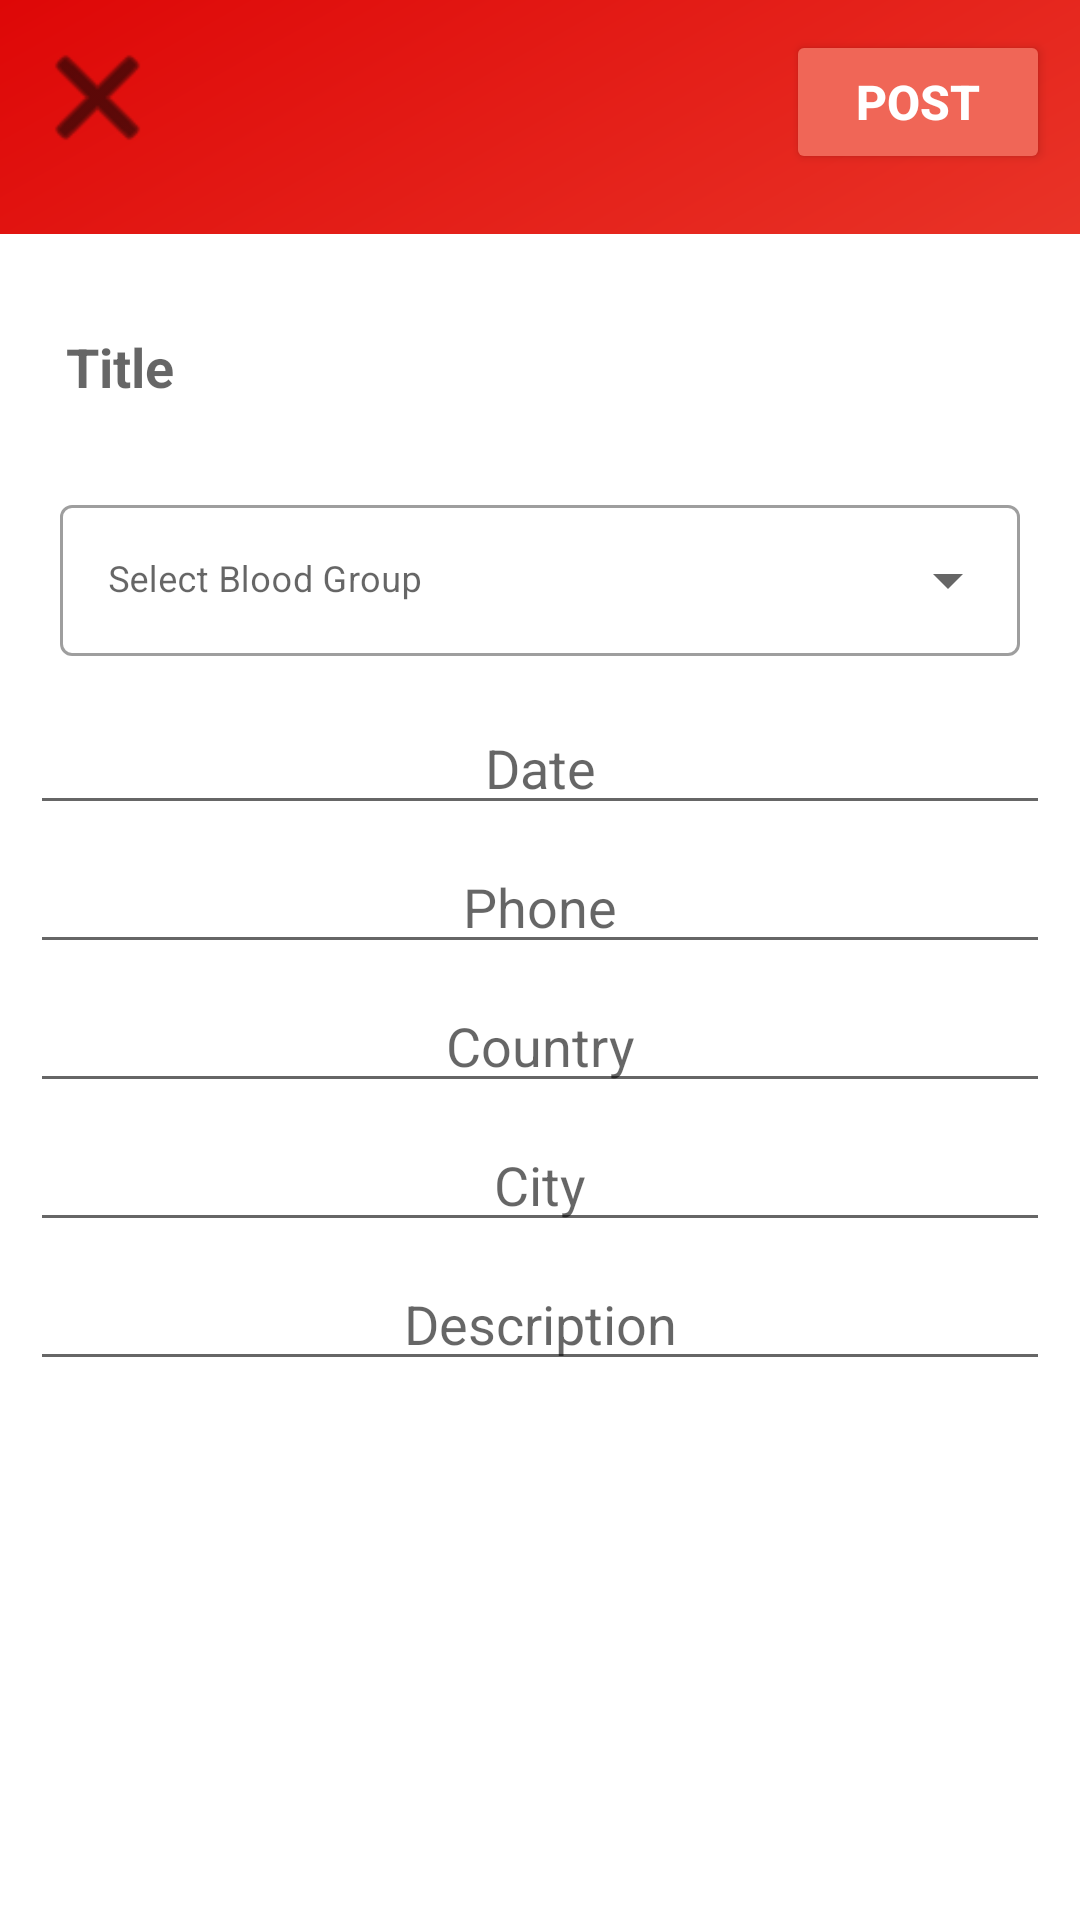

Icons on this 1080x1920 Android screen, each with its box as [x1,y1,x2,y2]:
close clear cancel: [55,55,140,140]
